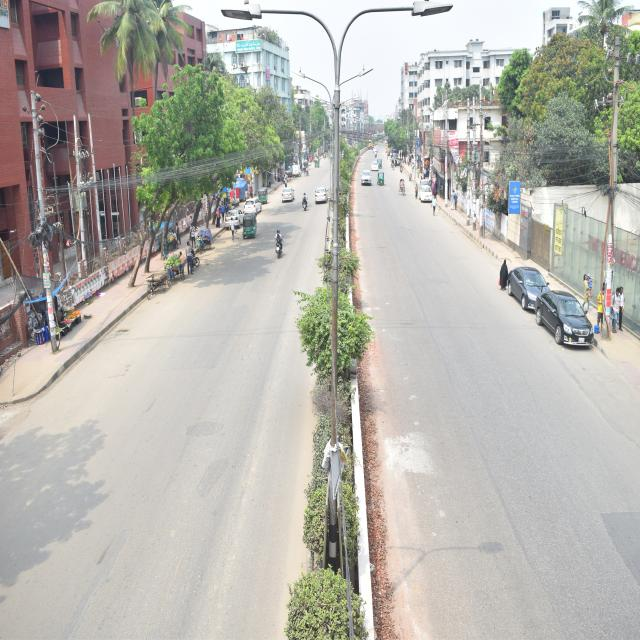car: (532, 282, 606, 372), (497, 240, 561, 333), (307, 180, 333, 221), (272, 173, 296, 216), (225, 200, 248, 241), (241, 187, 264, 220), (417, 179, 434, 211), (359, 161, 374, 193), (368, 156, 382, 176)
motorbike: (261, 208, 308, 287), (180, 239, 218, 288), (296, 175, 314, 220)
pickup-van: (287, 148, 304, 184)
